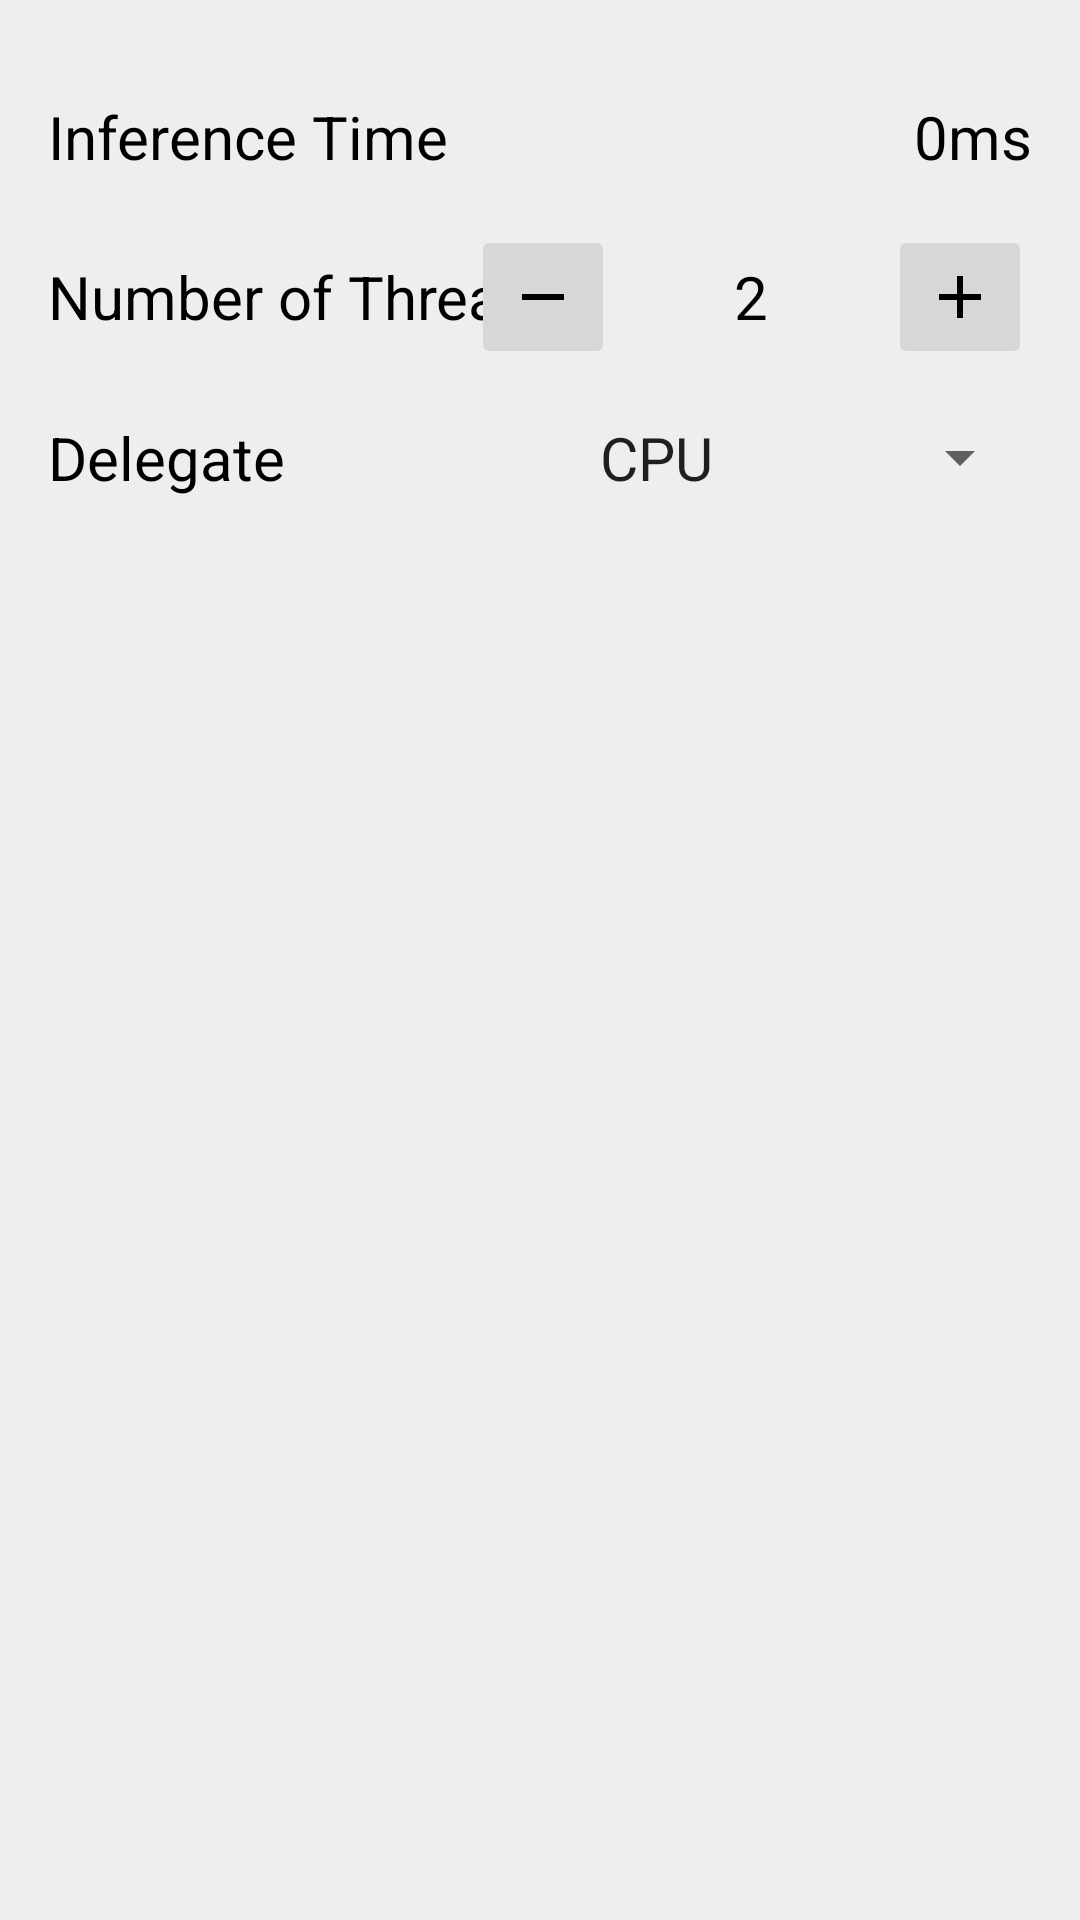

Where to tap for icons on this 1080×1920 app screen, as point (x, y):
Increase the number of threads used: point (960, 297)
